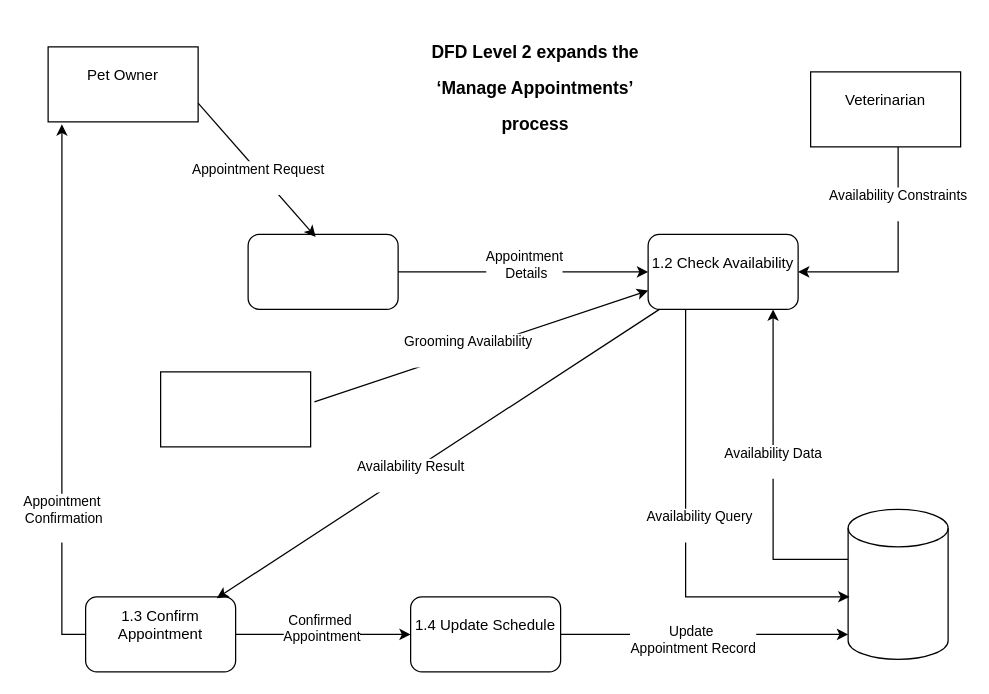
Image size: 989x694. Some labels were removed from this diagram. Each missing label, with the centre of its shape:
1.1 Request Appointment: point (322, 271)
D2: Appointment Schedule: point (897, 583)
Groomer: point (235, 409)
